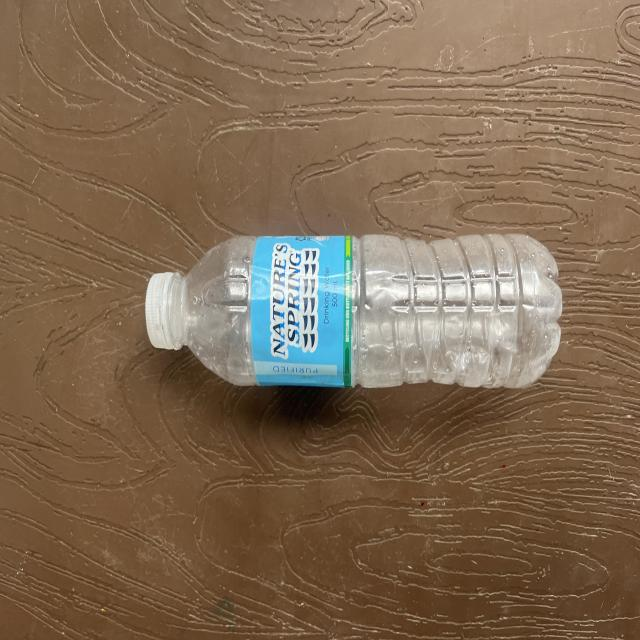REJECT: (153, 227, 532, 400)
